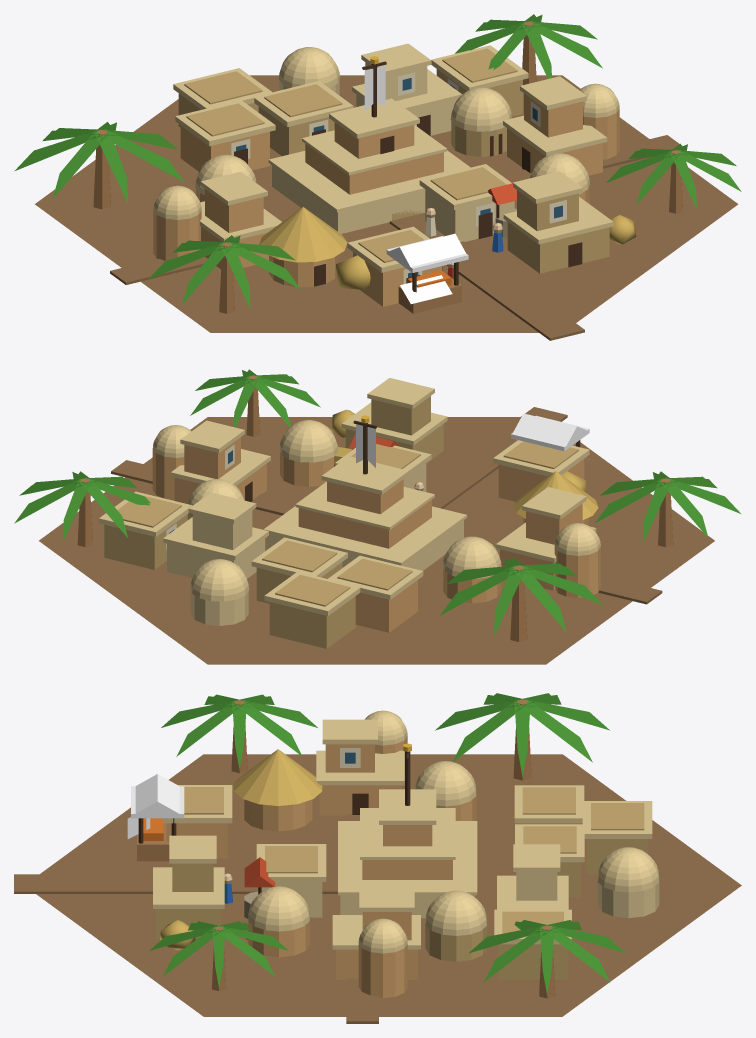
Rendered from city_0_4.fbx.
3 renders of one model, top to bottom at view 1: azimuth 30°, elevation 25°; view 2: azimuth 150°, elevation 25°; view 3: azimuth 270°, elevation 25°, orthographic. The views are drawn at different scales.
Visible parts, largest first — view 1: city_0_4; view 2: city_0_4; view 3: city_0_4.
Boxes of the visible parts, box(x1,y1,x2,y2) form: city_0_4: box(14, 14, 741, 340); city_0_4: box(14, 369, 740, 664); city_0_4: box(14, 693, 741, 1023).
Size of the model in its own units: 201 by 45.2 by 213.
